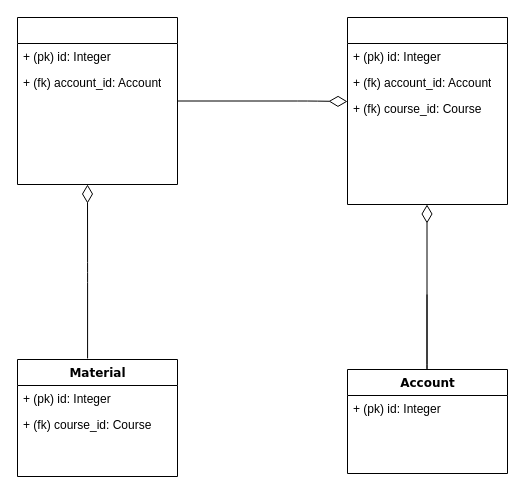
Some shapes in this 525 by 494 pixel diagram are drawn without their labels. Here are the shapes that lost their labels. From the top down, the box of each, then its label:
(16, 16, 178, 184): Course
(346, 16, 508, 204): Subs
